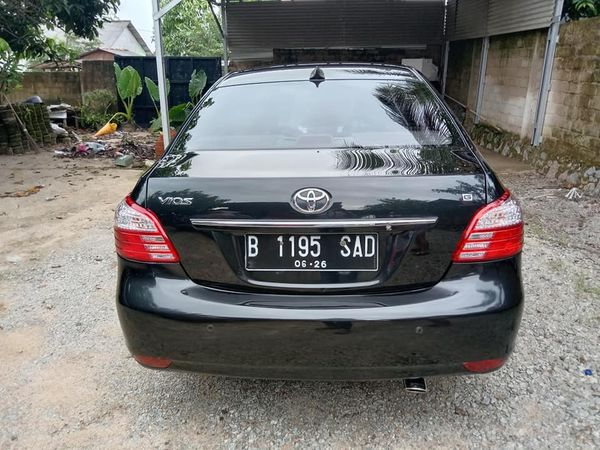plate: (238, 228, 379, 278)
